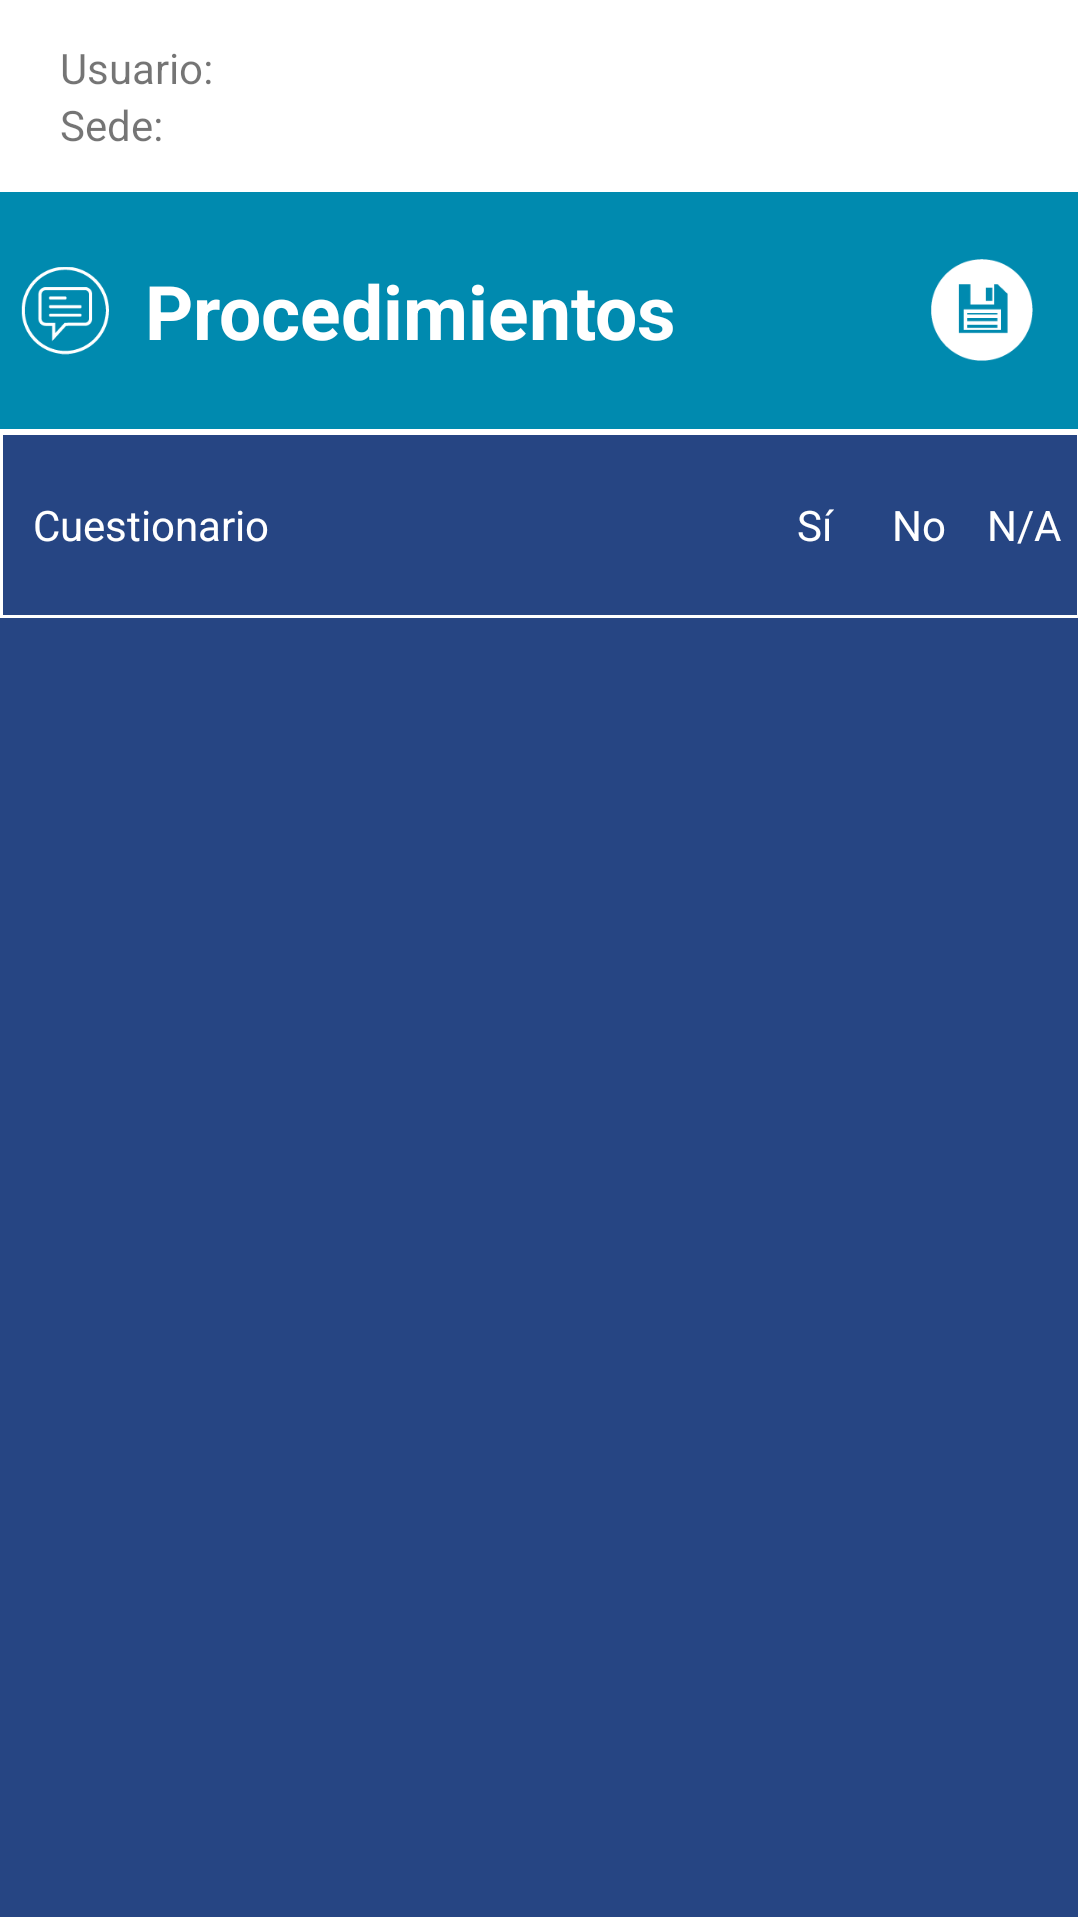

Named icons in this screenshot (1080×1920) and their bounding boxes, (x1, y1, x2, y2):
comunicacion: (21, 267, 109, 355)
guardar: (931, 259, 1033, 361)
